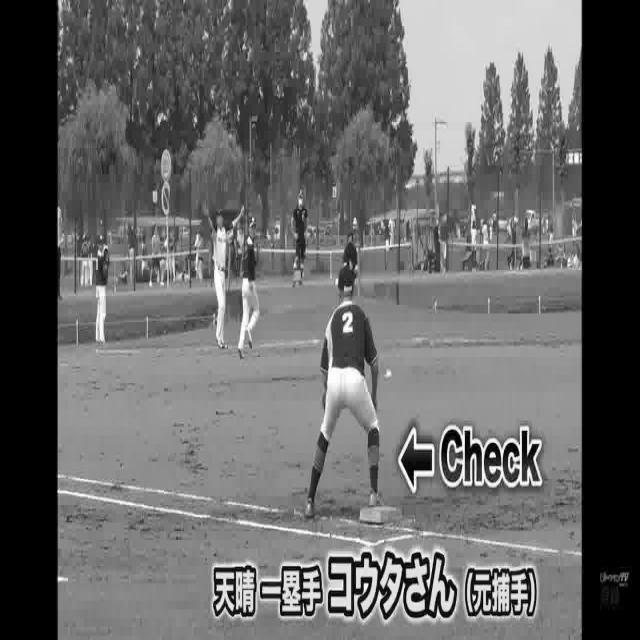base: (360, 502, 403, 524)
shoe: (370, 486, 384, 508), (247, 326, 256, 357), (303, 497, 315, 520), (240, 341, 245, 358)
